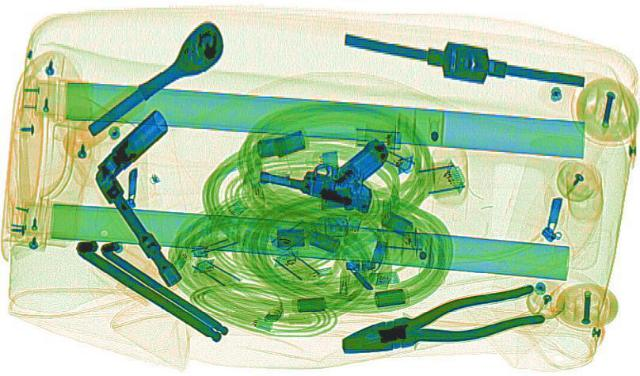Gun: (248, 121, 406, 211)
Pliers: (322, 282, 556, 363)
